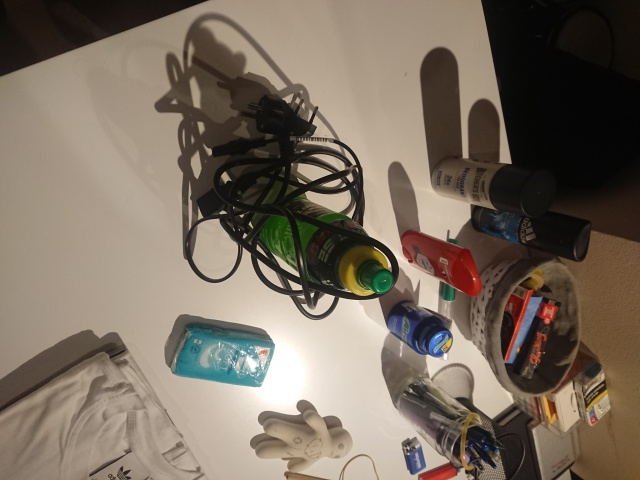Vindi Iso Sport Lemon-Grapefruit 500mL: (256, 195, 396, 299)
